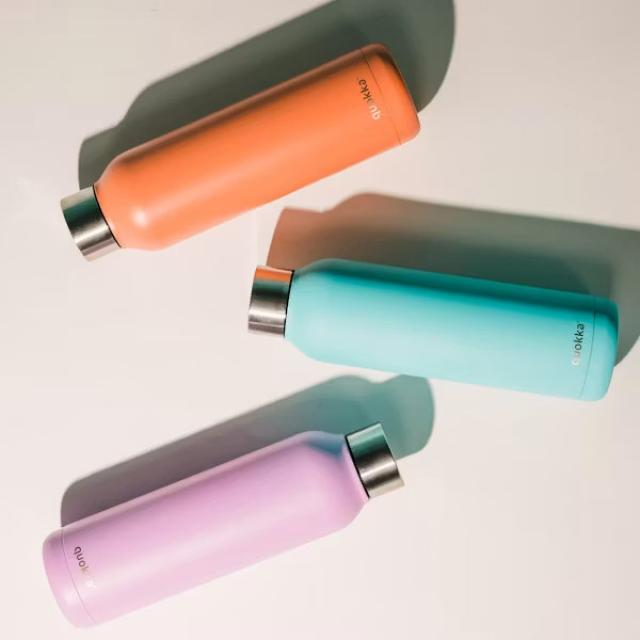Bottle: (61, 44, 419, 258), (44, 425, 402, 626), (249, 260, 617, 399)
